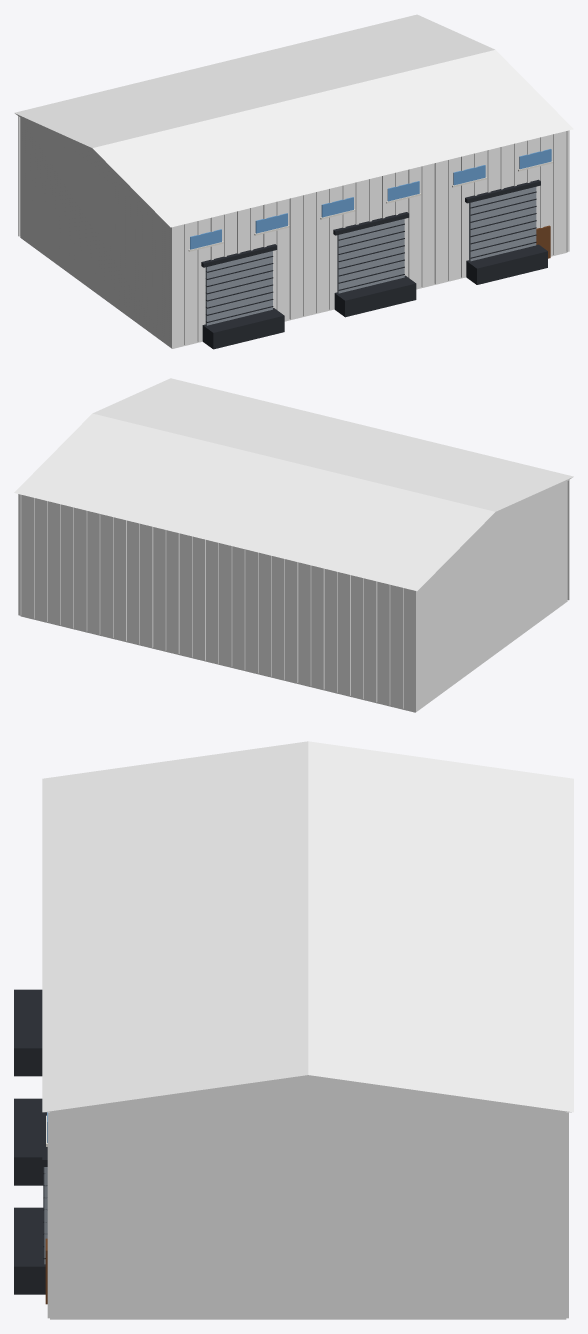
The model's file is warehouse.glb.
3 renders of one model, top to bottom at view 1: azimuth 30°, elevation 25°; view 2: azimuth 150°, elevation 25°; view 3: azimuth 270°, elevation 25°, orthographic. The views are drawn at different scales.
Visible parts, largest first — view 1: warehouse_walls, warehouse_roof; view 2: warehouse_walls, warehouse_roof; view 3: warehouse_roof, warehouse_walls.
Part boxes in pixels (x1=…): warehouse_walls: x1=18, y1=116, x2=569, y2=349; warehouse_roof: x1=14, y1=14, x2=573, y2=227; warehouse_walls: x1=18, y1=480, x2=569, y2=712; warehouse_roof: x1=14, y1=378, x2=573, y2=590; warehouse_roof: x1=42, y1=741, x2=573, y2=1112; warehouse_walls: x1=14, y1=989, x2=568, y2=1319.
Size of the model in its own units: 30.6 by 10.6 by 21.7.
